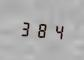eight: (34, 19, 48, 40)
four: (49, 20, 63, 41)
three: (18, 18, 32, 39)
